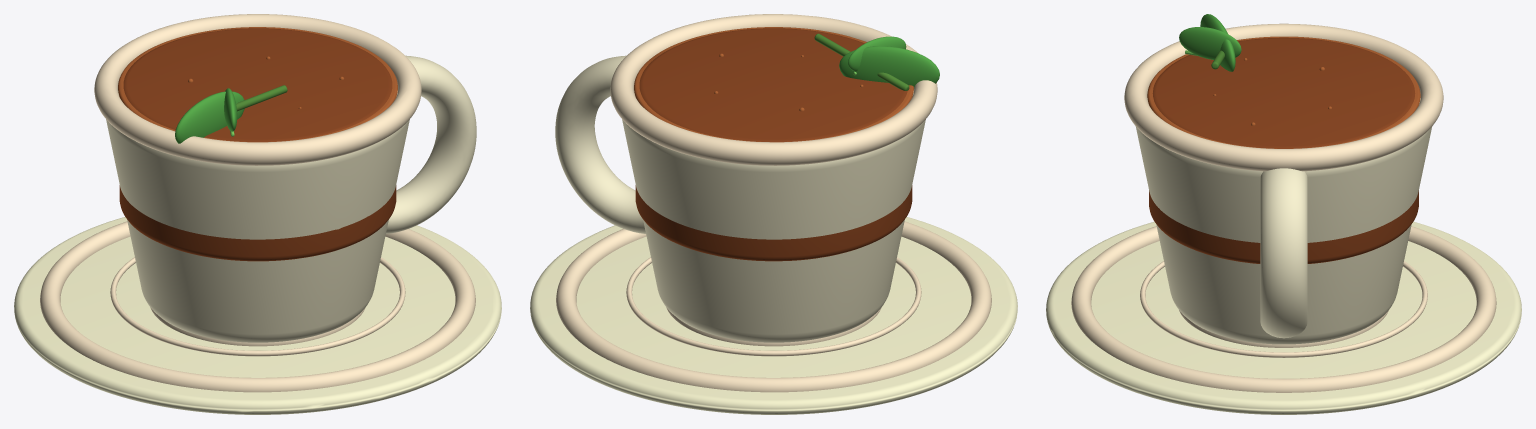
Rendered from tea1-fast.glb.
3 renders of one model, left to right at view 1: azimuth 30°, elevation 25°; view 2: azimuth 150°, elevation 25°; view 3: azimuth 270°, elevation 25°, orthographic. The views are drawn at different scales.
Visible parts, largest first — view 1: Amber_Tea_Surface; view 2: Amber_Tea_Surface; view 3: Amber_Tea_Surface.
Boxes of the visible parts, x1,y1,x2,y2 form: Amber_Tea_Surface: (14,14,501,414); Amber_Tea_Surface: (530,14,1017,414); Amber_Tea_Surface: (1046,14,1521,414).
Size of the model in its own units: 3.12 by 1.85 by 3.1.
Materials: 1 (1 with a texture image).
